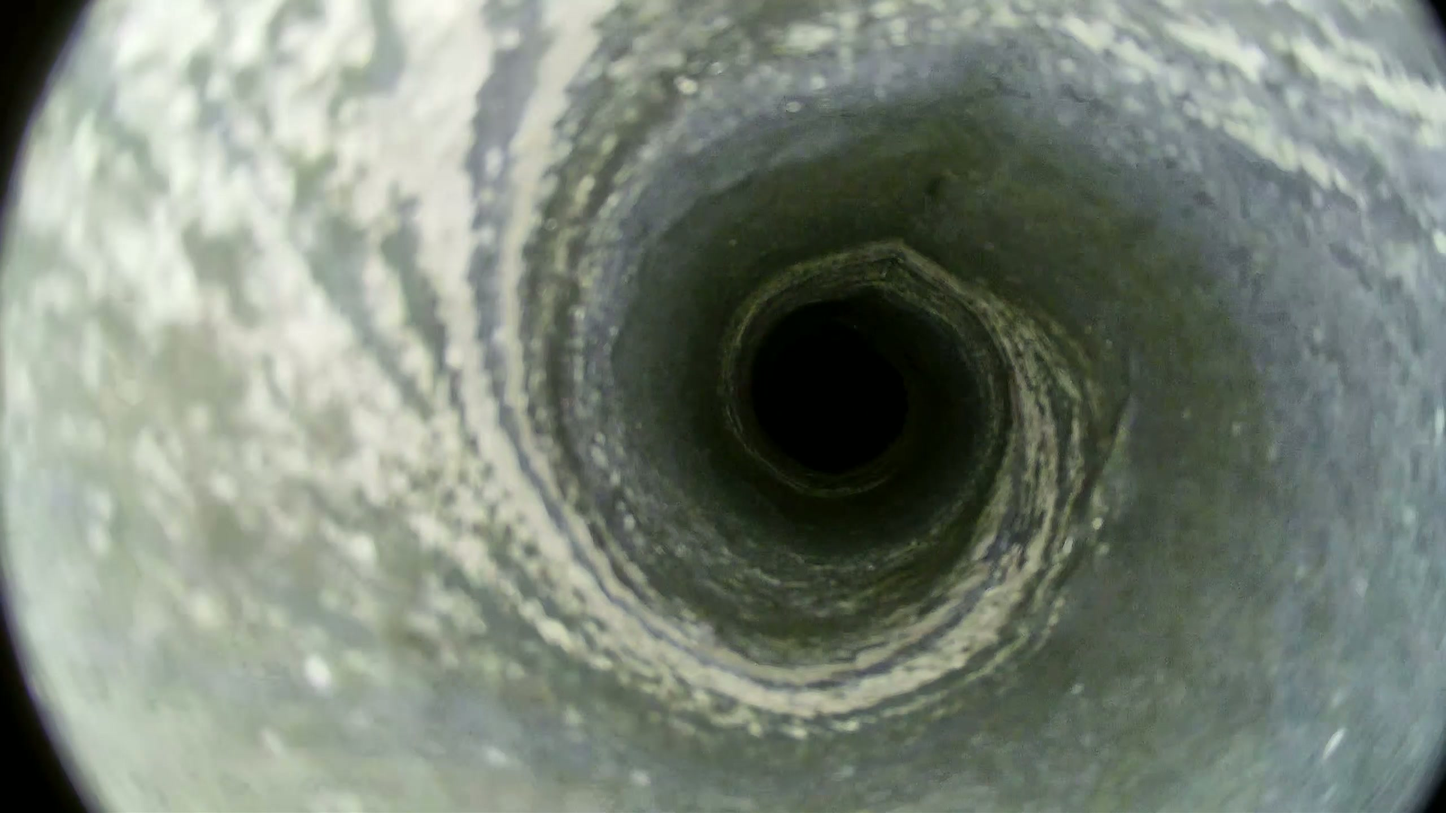hole: (758, 328, 907, 472)
